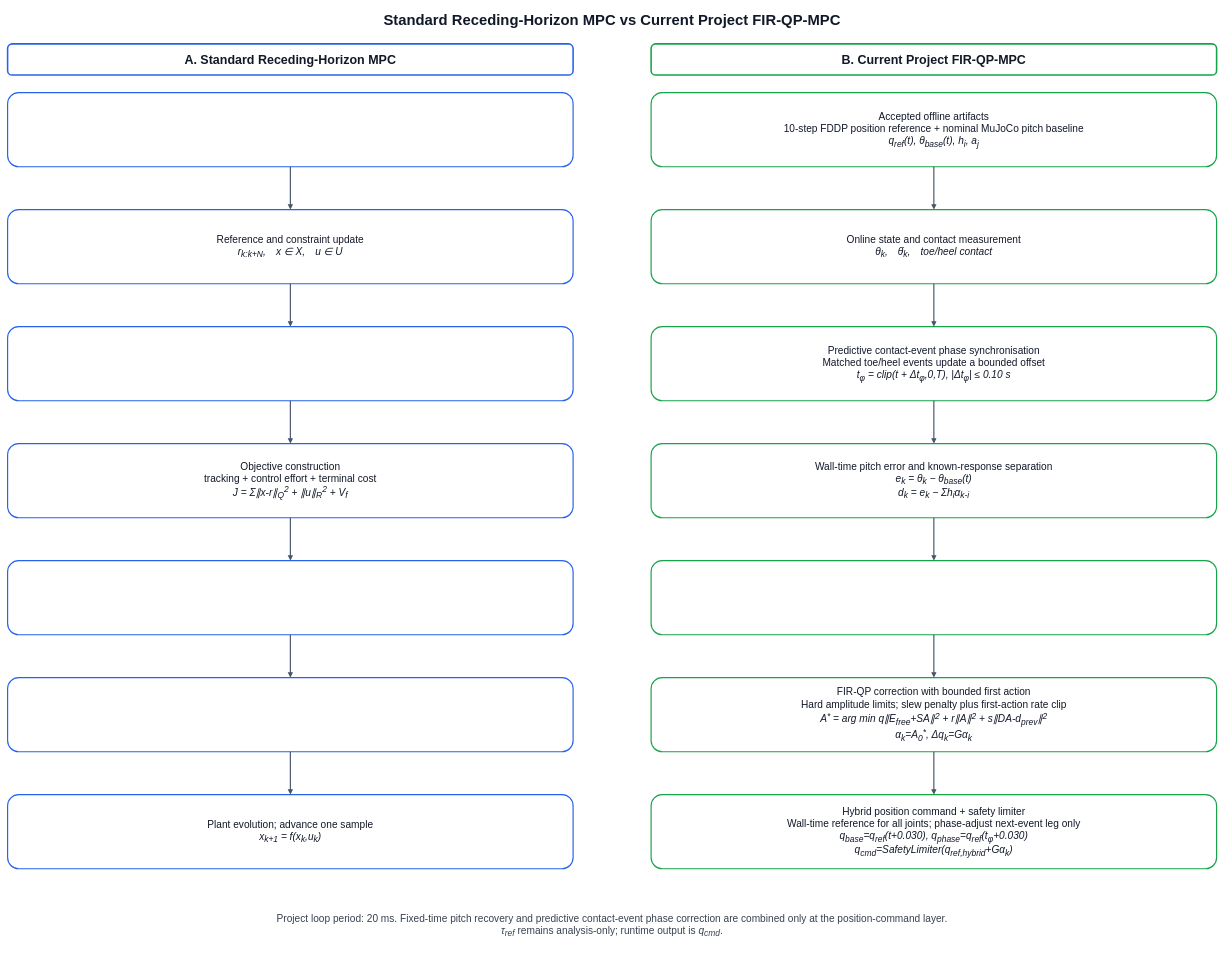
The diagram is 1224 pixels wide and 957 high, and some of its shapes have lost their labels. The centre of each missing label's shape, as x and y in pixels:
"Apply the first optimal input u k = u 0|k *" belongs at point 290,714.
"AR natural response + FIR command-response forecast E = E free + SA" belongs at point 933,597.
"Horizon prediction X = F(x̂ k ,U)" belongs at point 290,363.
"QP / NLP solution U k * = arg min U J(x̂ k ,U)" belongs at point 290,597.
"State measurement / estimation x̂ k" belongs at point 290,129.
